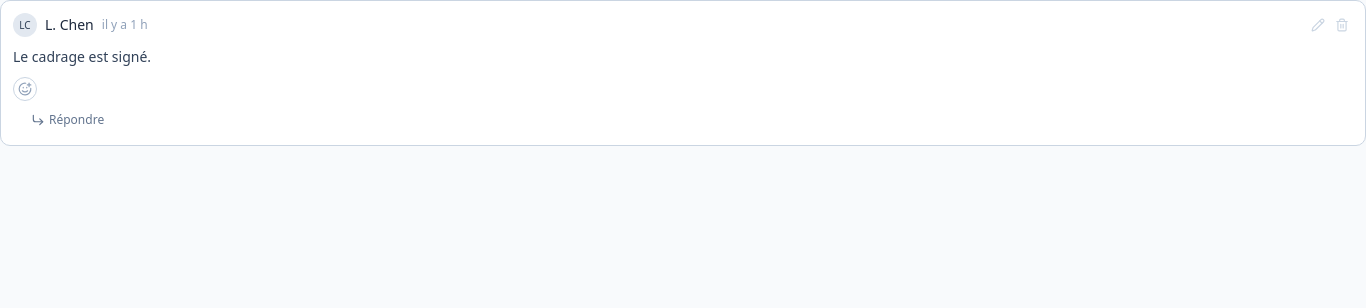
Test case: ProjectUpdateCard › la conversation sous une mise à jour › answers nothing while nothing is typed
Click the button "Répondre" at (68, 120), box [27,110,108,130]
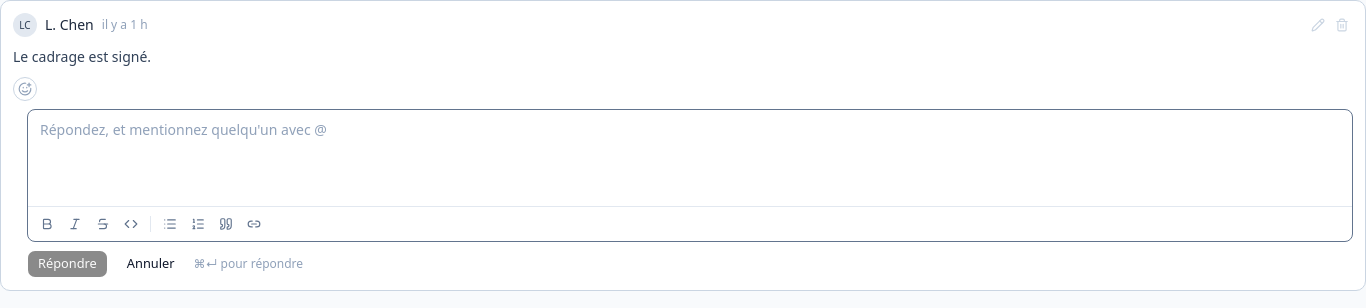
Expected: the button "Répondre" is disabled, [27,250,108,278]
